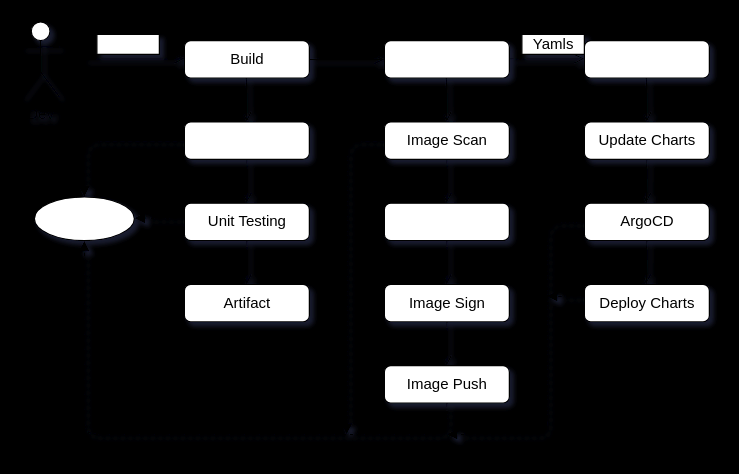
Some shapes in this 739 by 474 pixel diagram are drawn without their labels. Each missing label, with the box of its shape:
Commit: (96, 33, 159, 54)
Image Build: (383, 39, 509, 78)
Image Tag: (383, 202, 509, 241)
Mail/Notify: (33, 196, 134, 241)
Manifest Repo: (583, 39, 709, 78)
SonarQube: (183, 121, 309, 159)
